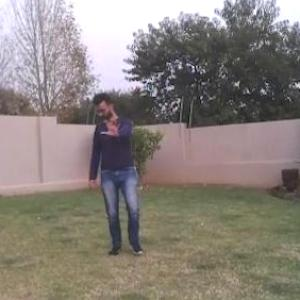follow_hand: (98, 114, 125, 139)
